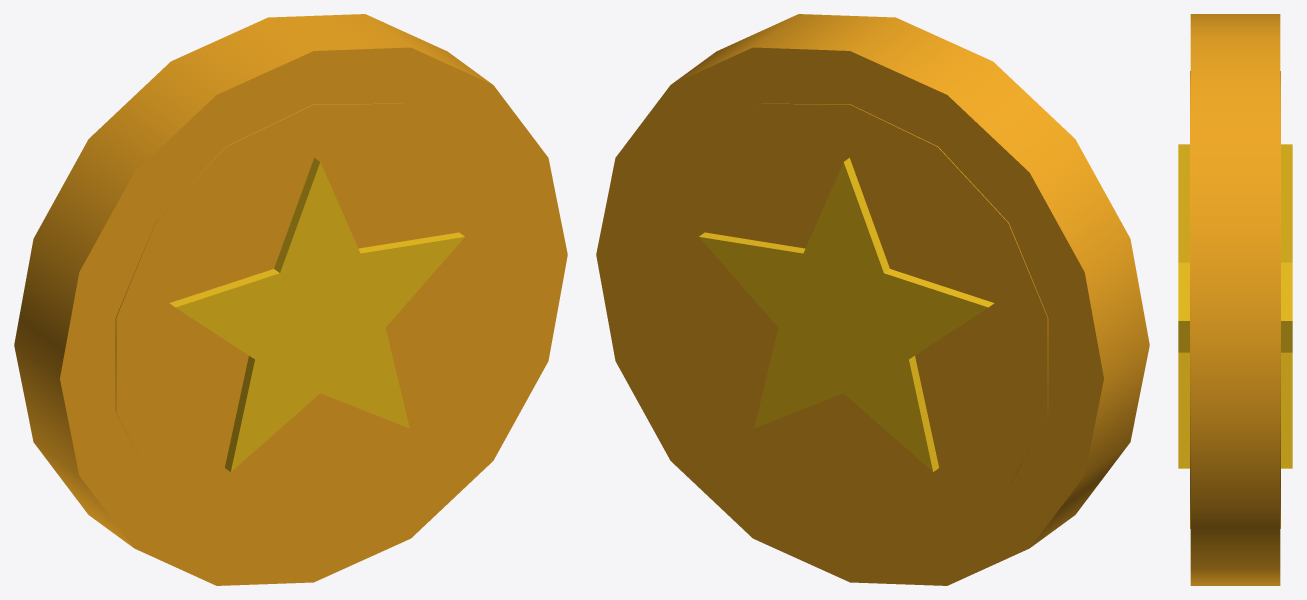
The model's file is coin.glb.
3 views of the same model, side by side, from view 1: azimuth 30°, elevation 25°; view 2: azimuth 150°, elevation 25°; view 3: azimuth 270°, elevation 25° (orthographic). The views are drawn at different scales.
Visible parts, largest first — view 1: coin_body, coin_face, star_front; view 2: coin_body, coin_face, star_back; view 3: coin_body, star_front, star_back, coin_face.
Boxes of the visible parts, left/top/right/bottom form: coin_body: left=14, top=14, right=567, bottom=585; coin_face: left=115, top=103, right=512, bottom=529; star_front: left=169, top=158, right=464, bottom=471; coin_body: left=596, top=14, right=1149, bottom=585; coin_face: left=651, top=103, right=1048, bottom=529; star_back: left=699, top=158, right=994, bottom=471; coin_body: left=1190, top=14, right=1280, bottom=585; star_front: left=1178, top=144, right=1189, bottom=468; star_back: left=1281, top=144, right=1292, bottom=468; coin_face: left=1190, top=71, right=1280, bottom=528.
Bounding box in the file's own units: 1 × 1 × 0.2.
